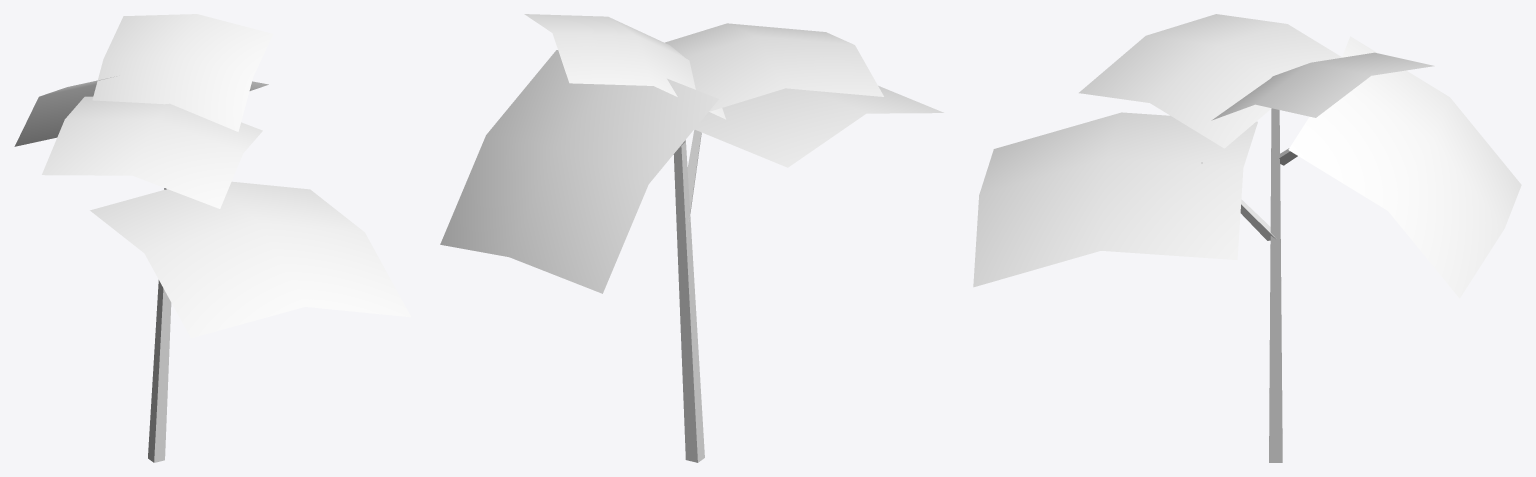
File: SM_Prop_Hemp_01_S.glb
3 renders of one model, left to right at view 1: azimuth 30°, elevation 25°; view 2: azimuth 150°, elevation 25°; view 3: azimuth 270°, elevation 25°, orthographic. The views are drawn at different scales.
Visible parts, largest first — view 1: SM_Prop_Hemp_01_S; view 2: SM_Prop_Hemp_01_S; view 3: SM_Prop_Hemp_01_S.
Boxes of the visible parts, x1,y1,x2,y2 form: SM_Prop_Hemp_01_S: (14, 14, 410, 462); SM_Prop_Hemp_01_S: (440, 14, 943, 462); SM_Prop_Hemp_01_S: (973, 14, 1521, 462).
Size of the model in its own units: 0.1879 by 0.246 by 0.2848.
Materials: 2 (1 with a texture image).
